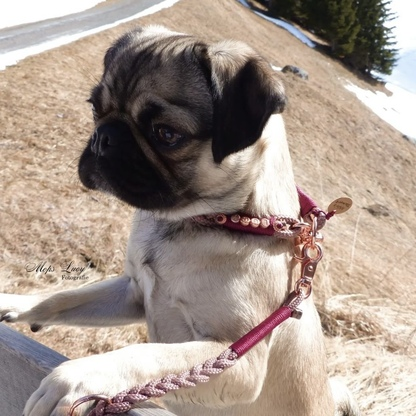Pug: (1, 16, 351, 416)
